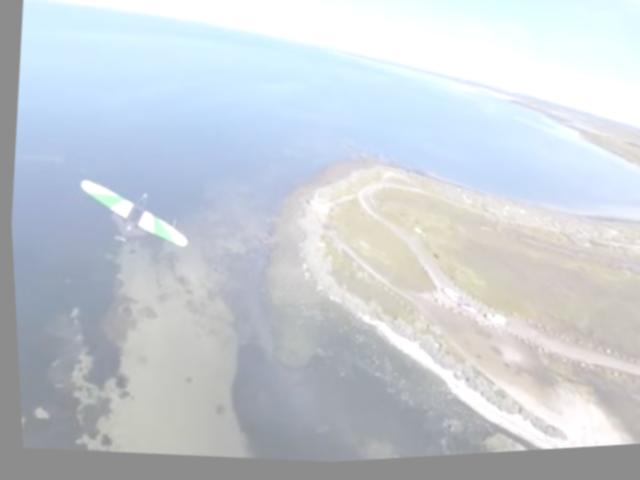uav: (69, 169, 198, 258)
